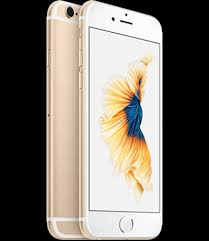iphone: (76, 1, 163, 240)
iphone6: (75, 1, 162, 241)
